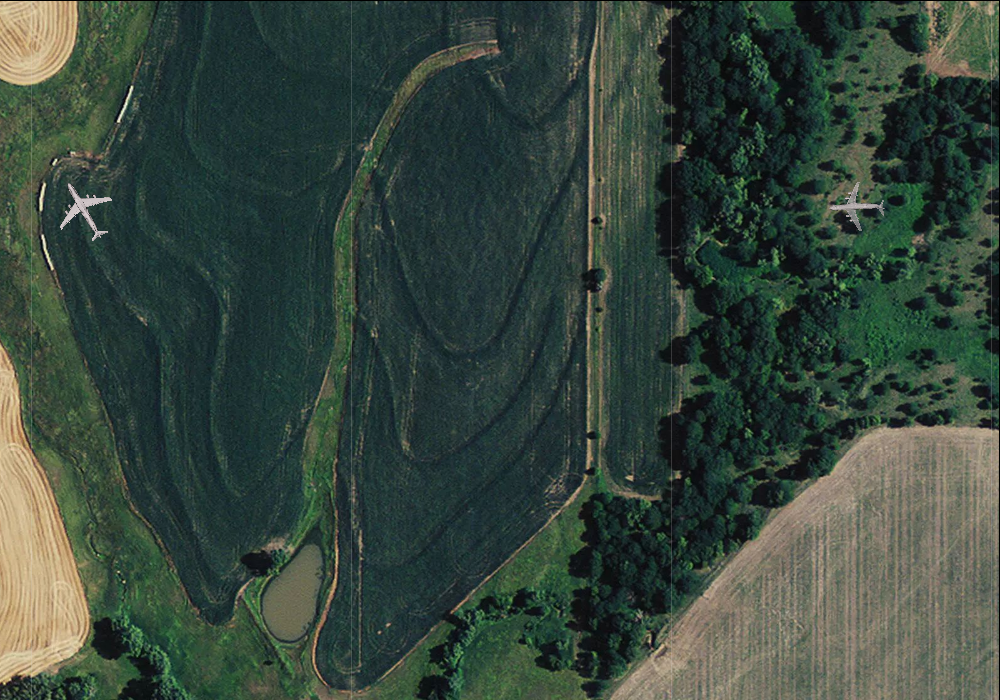plane: (42, 167, 125, 253), (827, 179, 887, 236)
